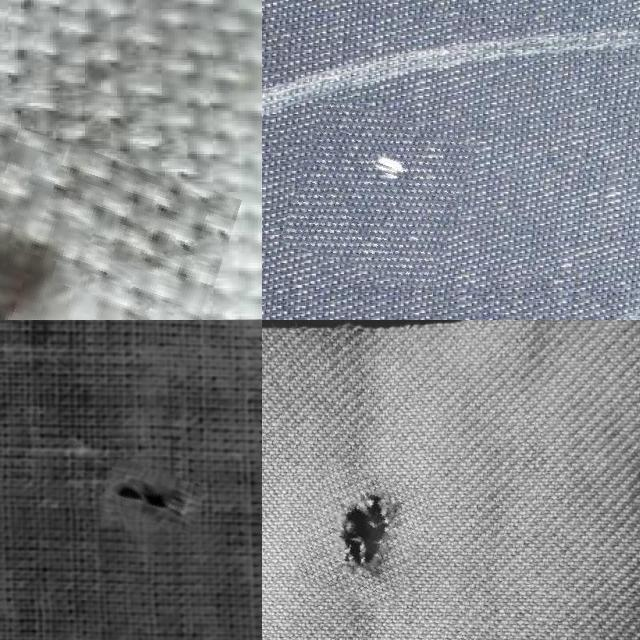other: (298, 468, 424, 606), (101, 463, 201, 529)
stains: (0, 116, 215, 320), (288, 106, 466, 280)
